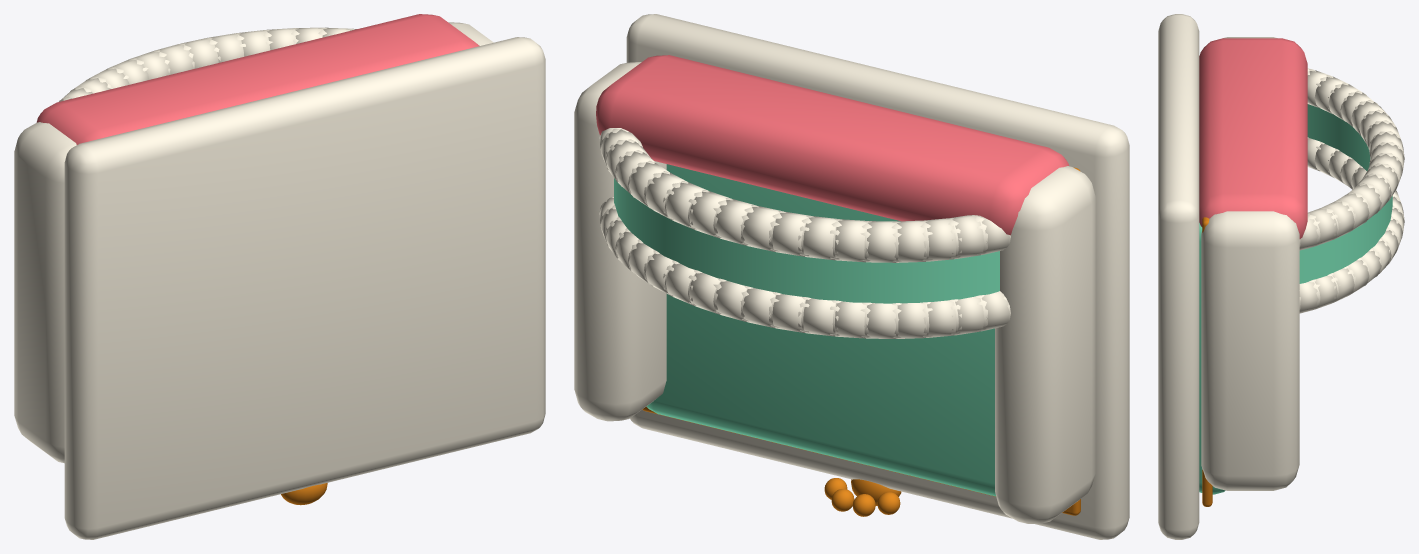
File: CozyPodBed_Premium.fbx
3 views of the same model, side by side, from view 1: azimuth 30°, elevation 25°; view 2: azimuth 150°, elevation 25°; view 3: azimuth 270°, elevation 25° (orthographic). The views are drawn at different scales.
Parts seen in each view (by area): view 1: CozyPodBed_Body; view 2: CozyPodBed_Body; view 3: CozyPodBed_Body.
Boxes of the visible parts, box(x1,y1,x2,y2) form: CozyPodBed_Body: box(14, 14, 545, 539); CozyPodBed_Body: box(574, 14, 1129, 539); CozyPodBed_Body: box(1158, 14, 1404, 539).
Bounding box in the file's own units: 1.11 × 0.9215 × 0.5783.
